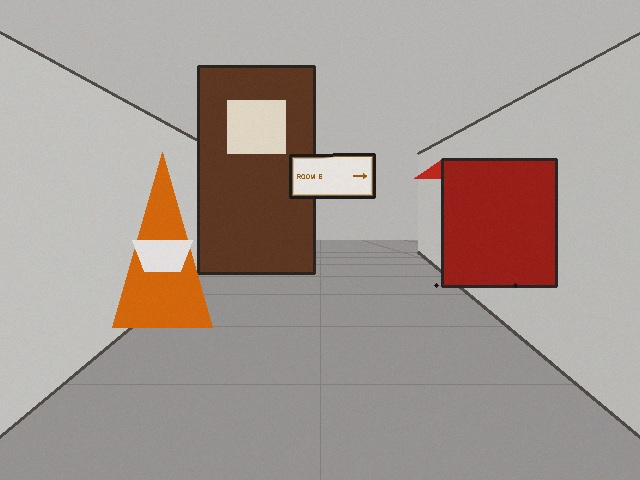cart: (414, 159, 556, 286)
directional_sign: (290, 154, 374, 197)
door: (198, 66, 314, 273)
obstacle: (112, 152, 212, 327)
